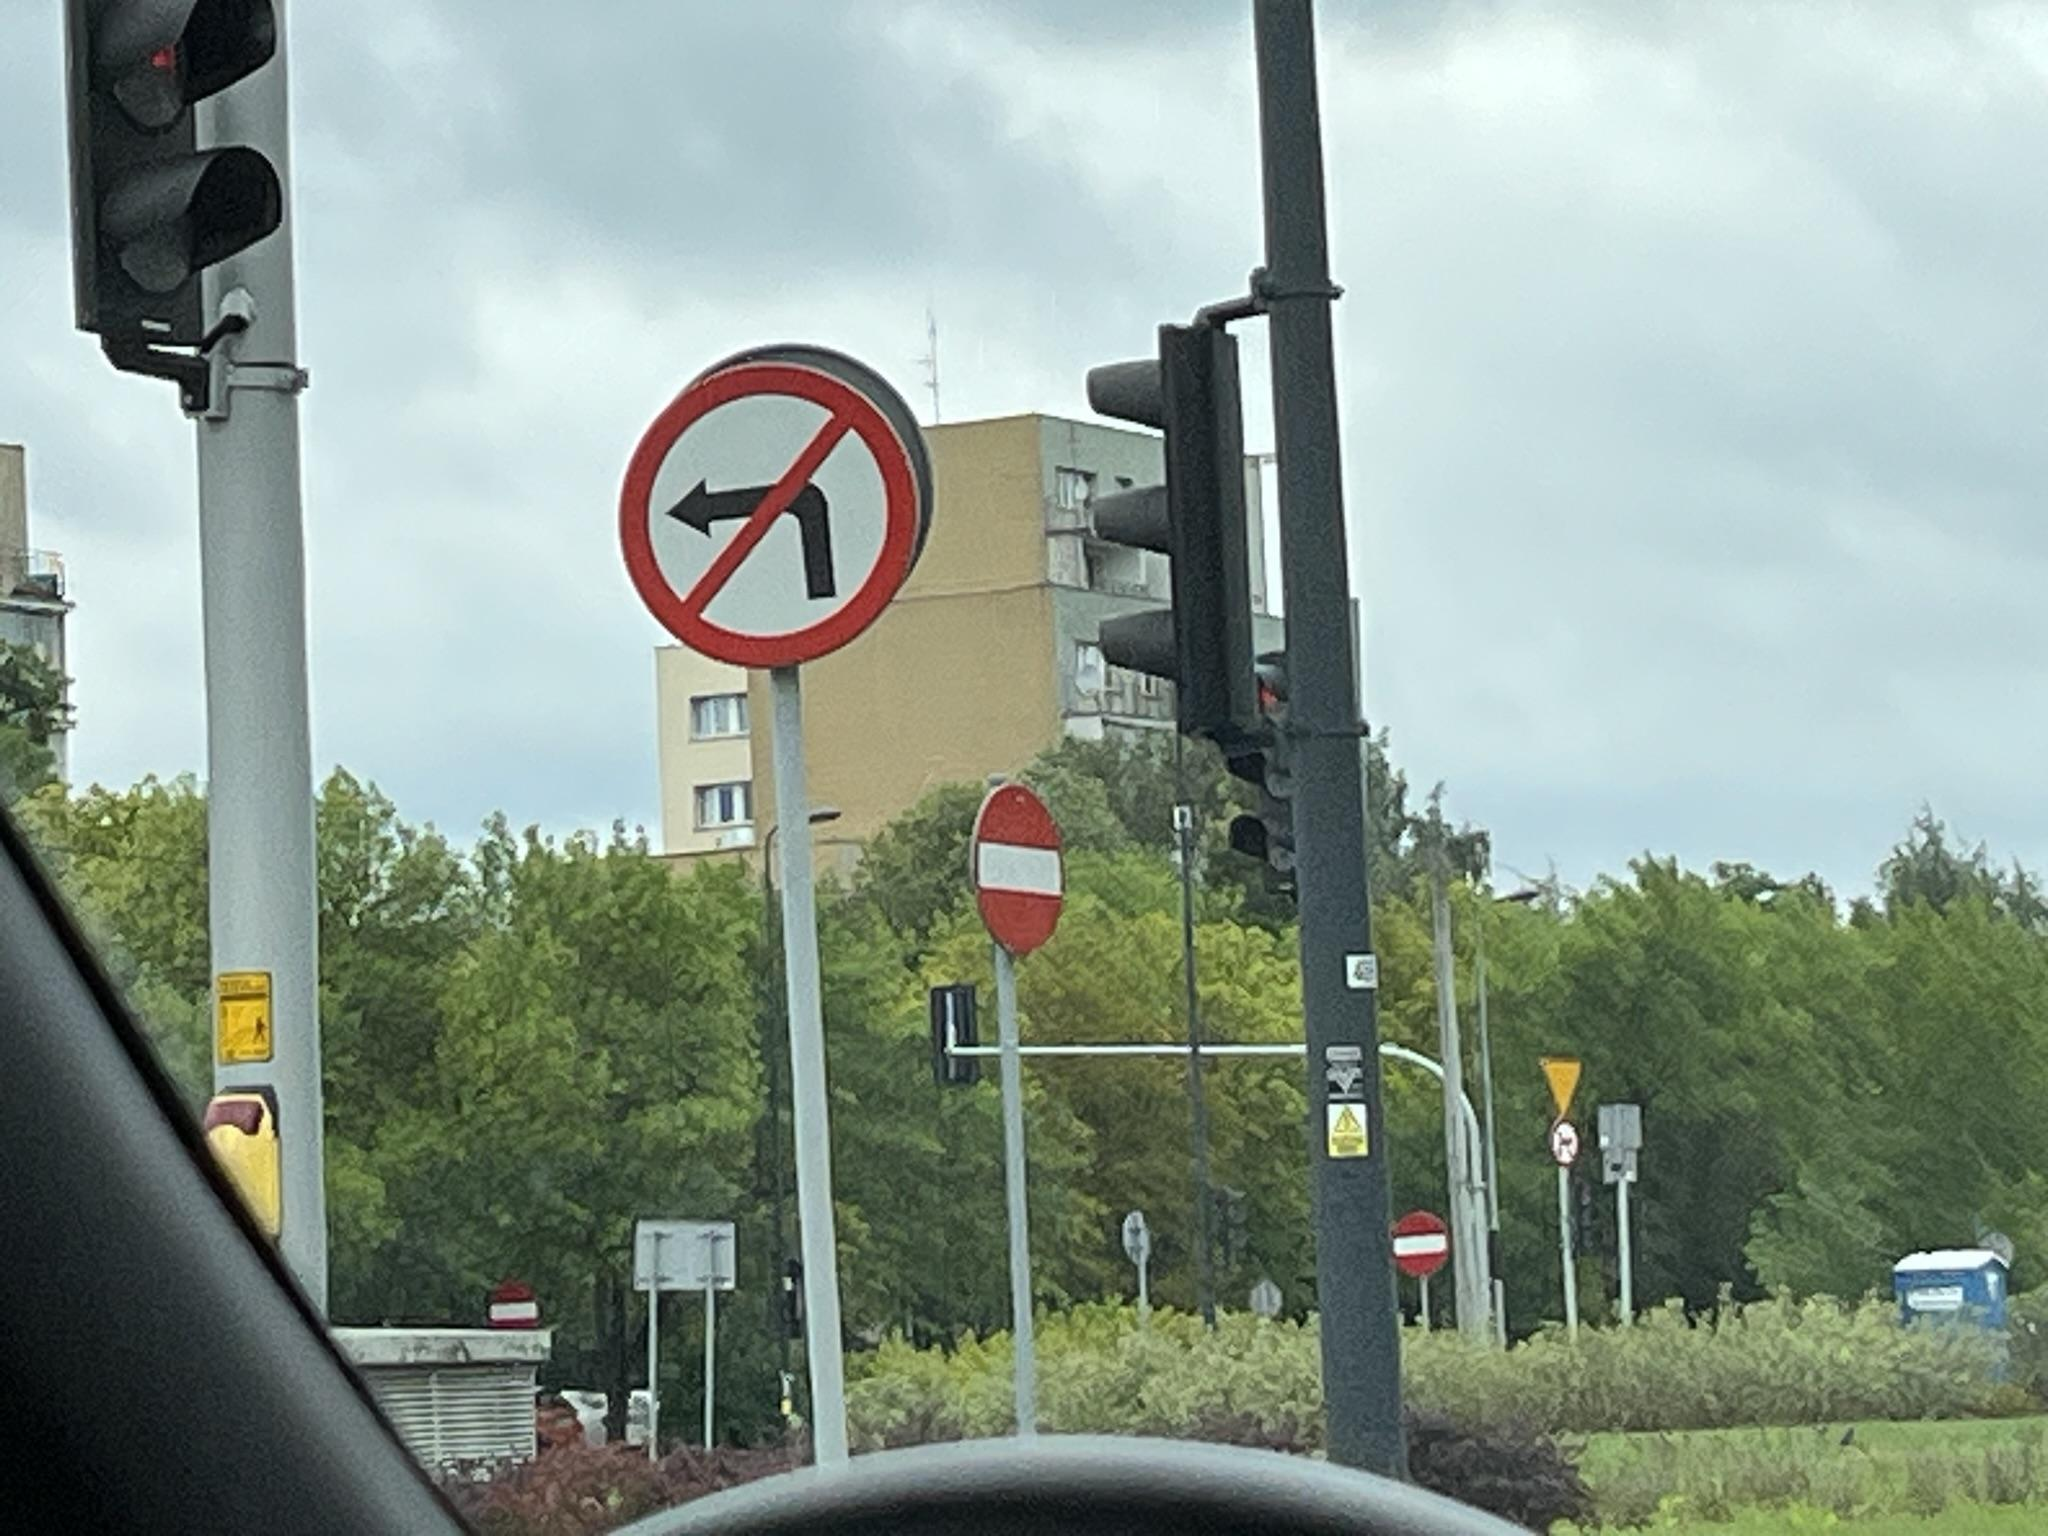prohibitory: (616, 358, 927, 671), (971, 779, 1071, 958), (1388, 1210, 1451, 1279), (487, 1283, 540, 1331), (1551, 1121, 1580, 1168)
warning: (1535, 1055, 1587, 1117)
